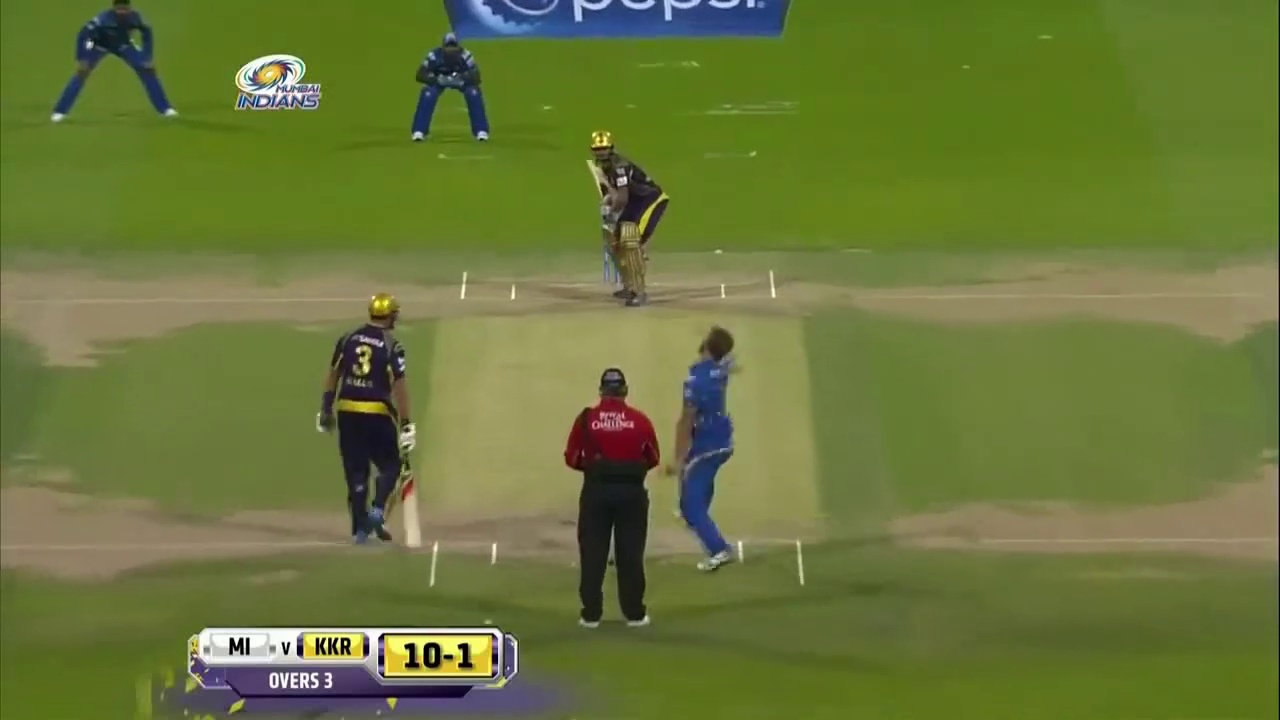bat: (400, 453, 423, 549), (588, 161, 610, 199)
